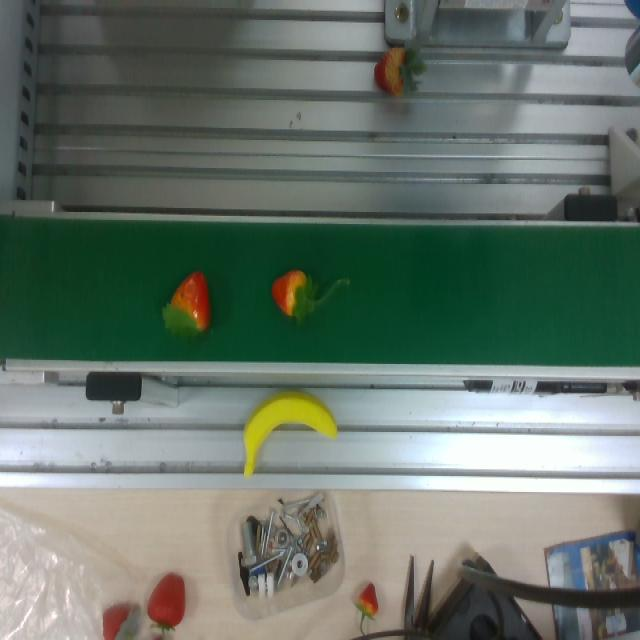Small Ripe Strawberry: (145, 568, 187, 632)
Small Unripe Strawberry: (147, 261, 219, 342), (265, 258, 350, 326)
conveyor: (1, 212, 640, 373)
